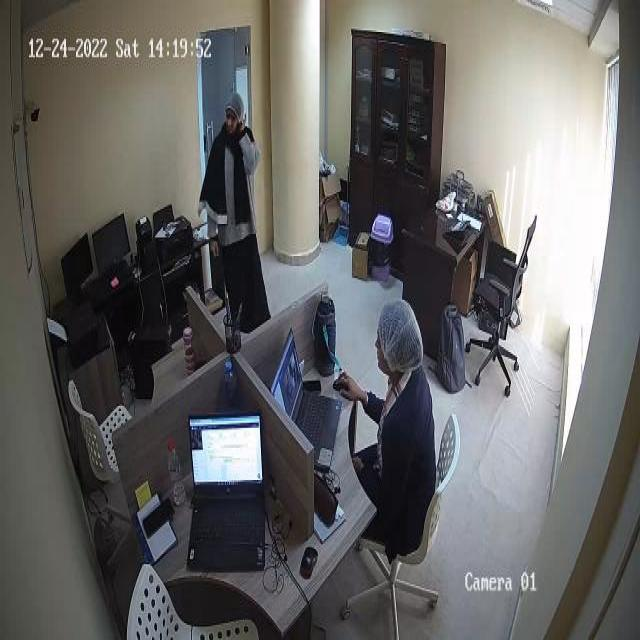hairnet: (379, 302, 427, 373), (221, 92, 246, 122)
